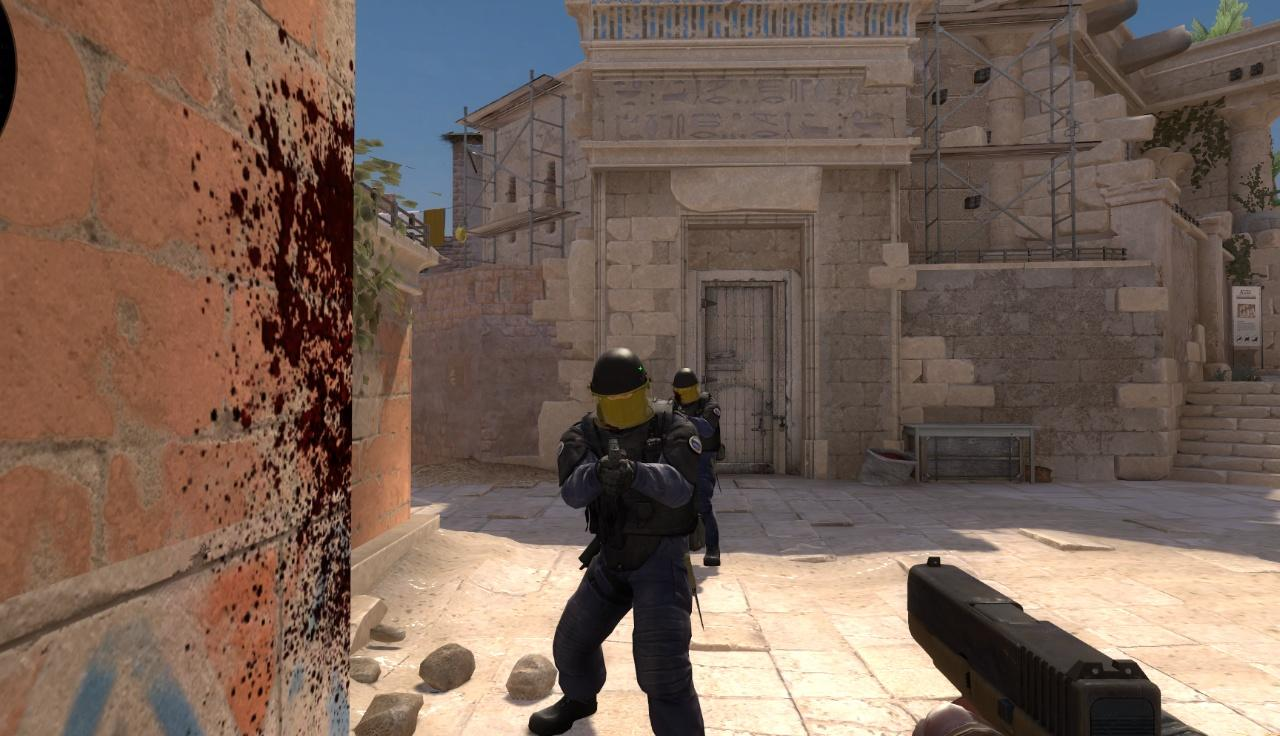ct: (527, 347, 699, 736), (685, 367, 729, 562)
cthead: (588, 346, 649, 429), (671, 367, 700, 403)
pistol: (904, 556, 1166, 728)
